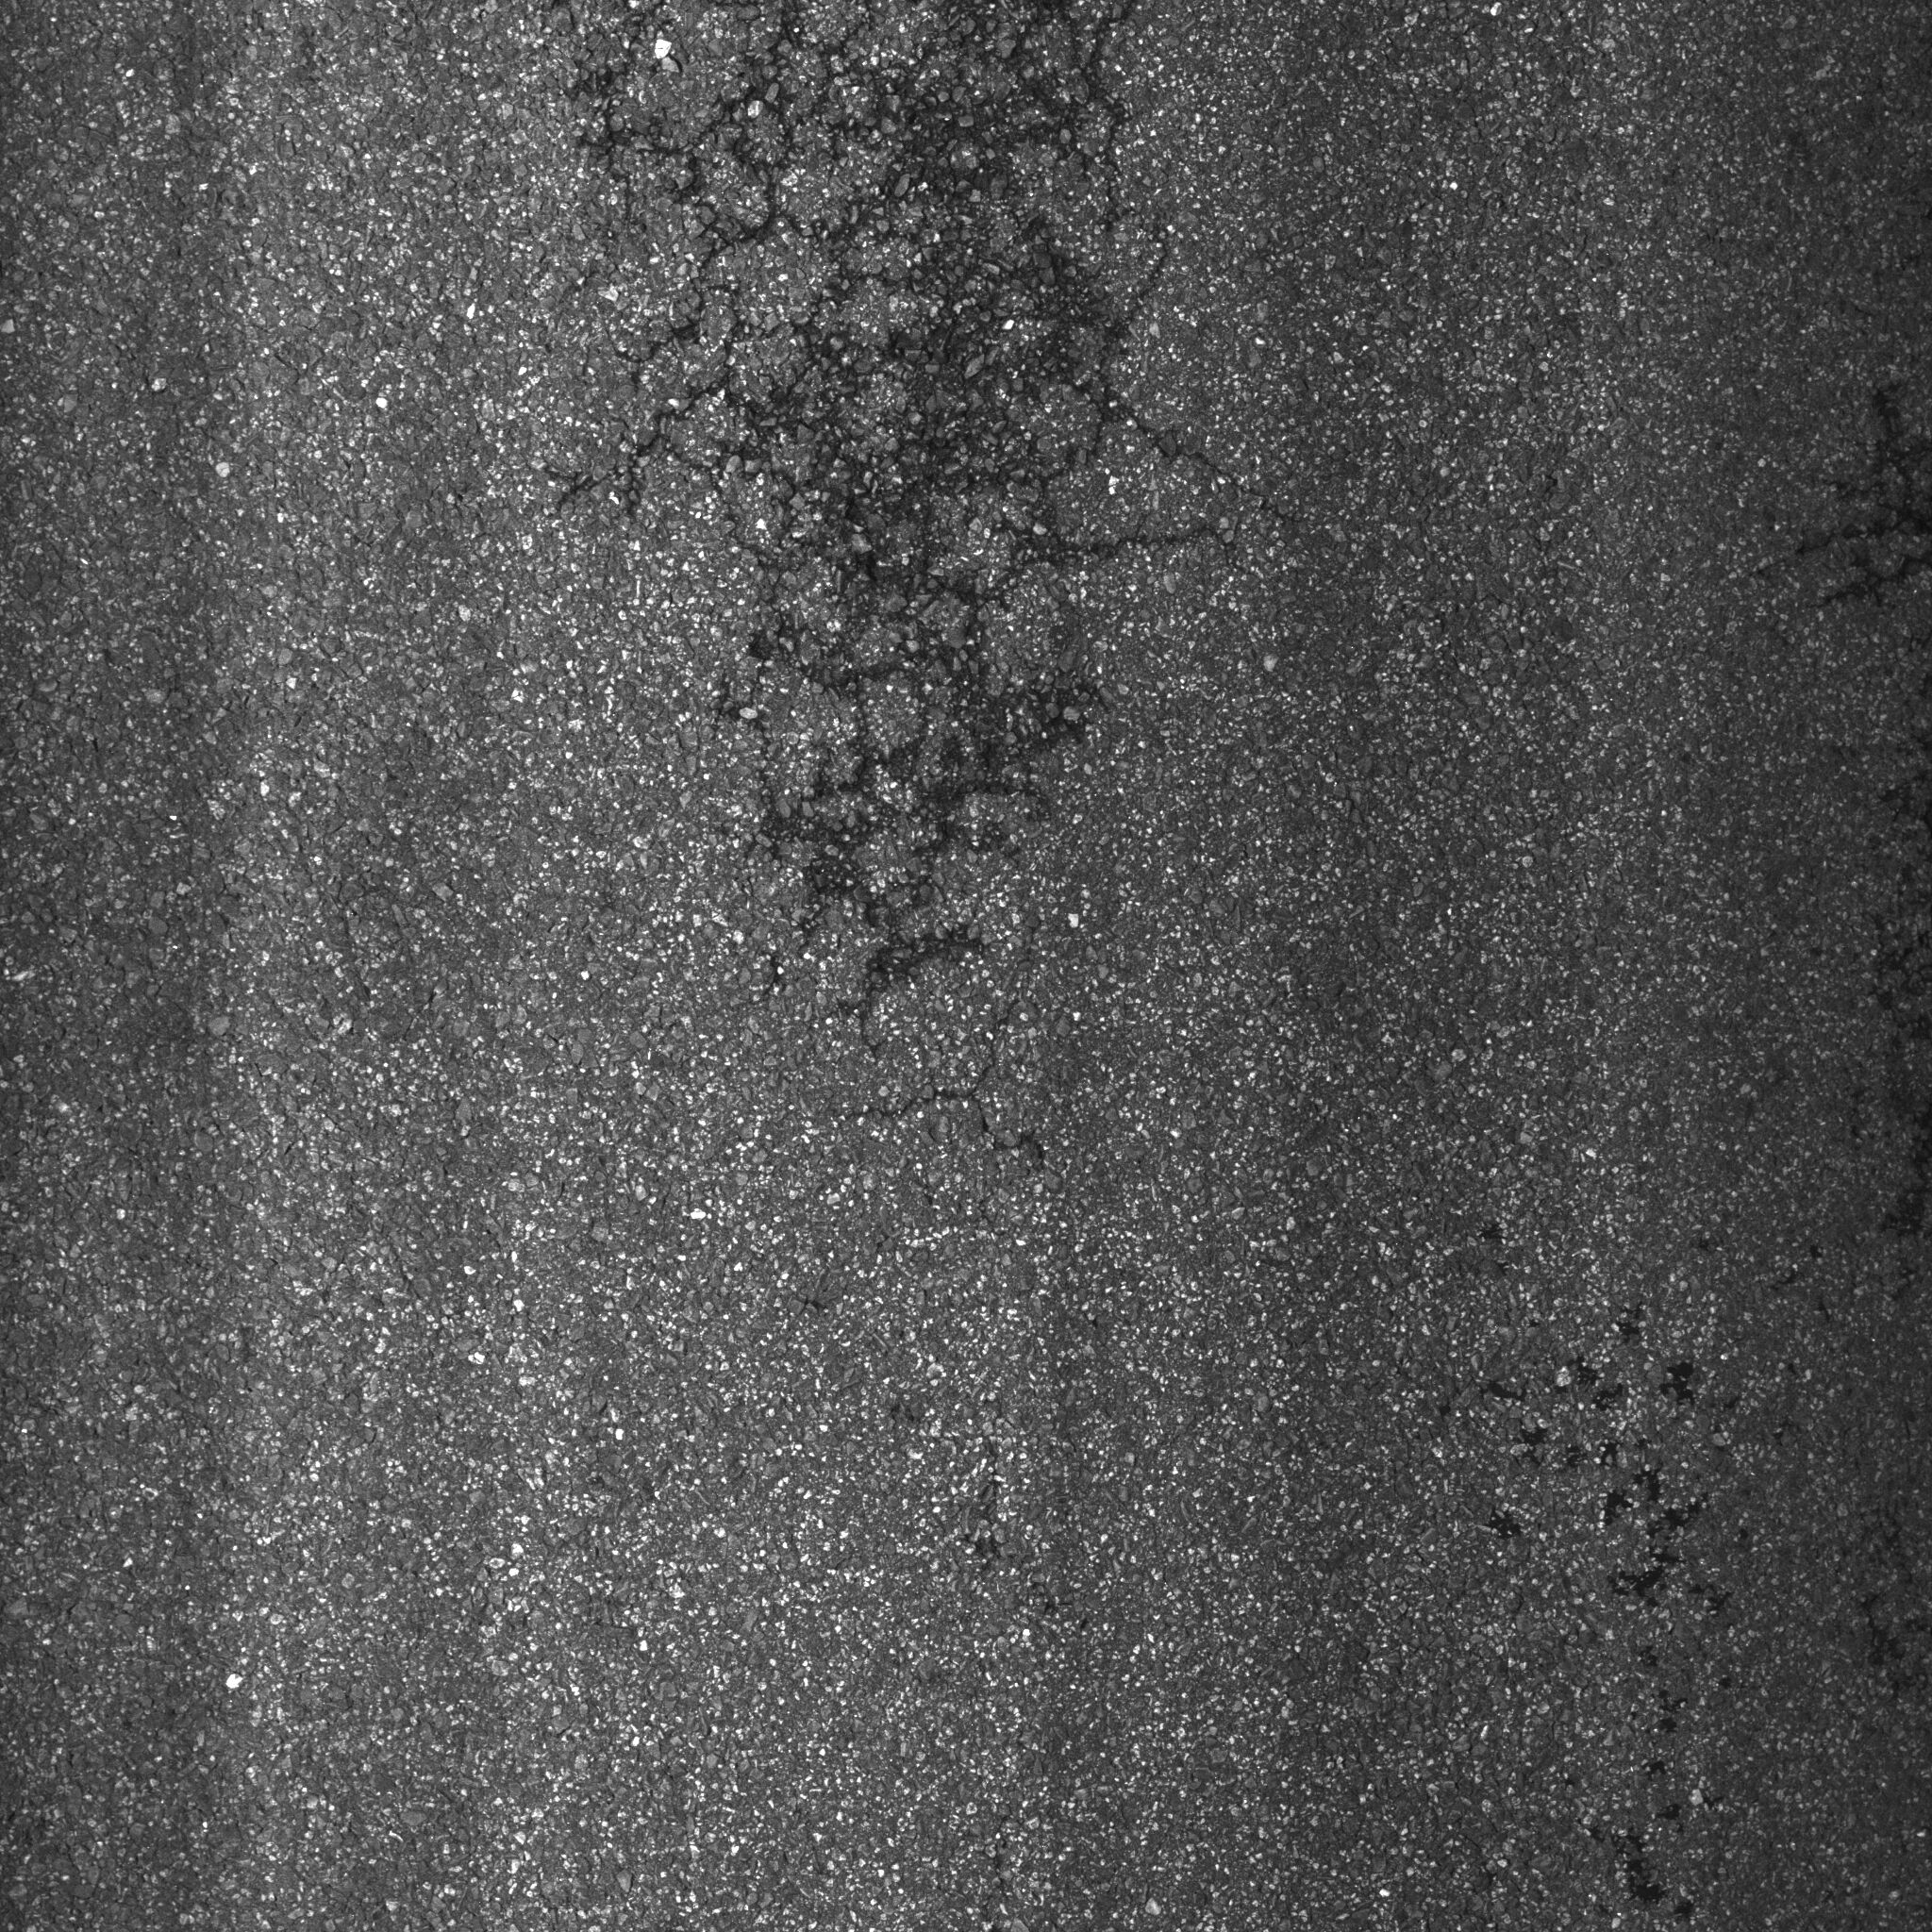alligator: (453, 5, 1284, 1062)
